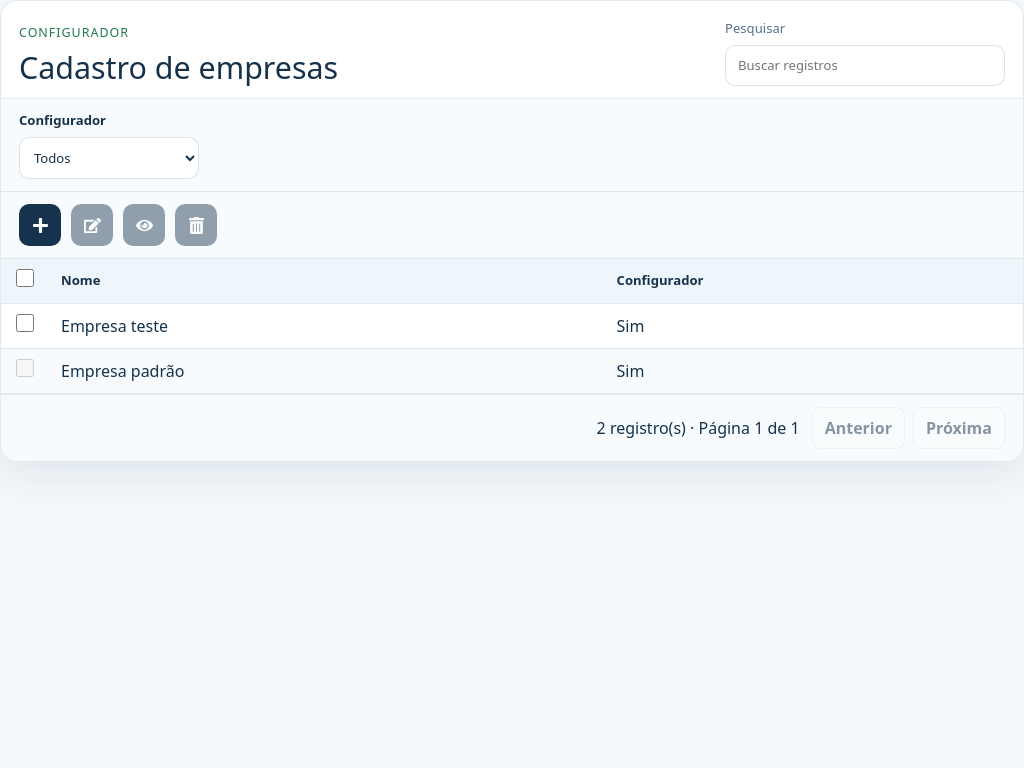
Scenario: CRUDs do Configurador › mantém empresas realmente somente leitura ao visualizar
The image size is (1024, 768).
Click the cell "Empresa teste".
click(327, 326)  # box [49,303,604,348]
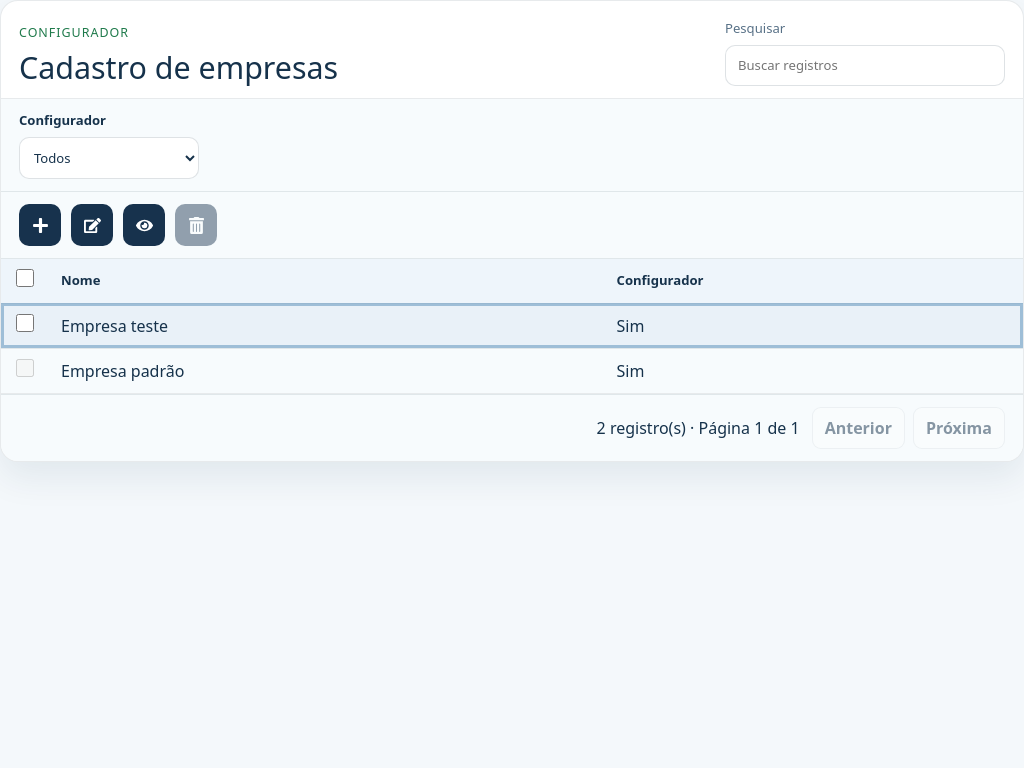
Click the button named "Visualizar".
click(144, 225)  # box [123,204,165,246]
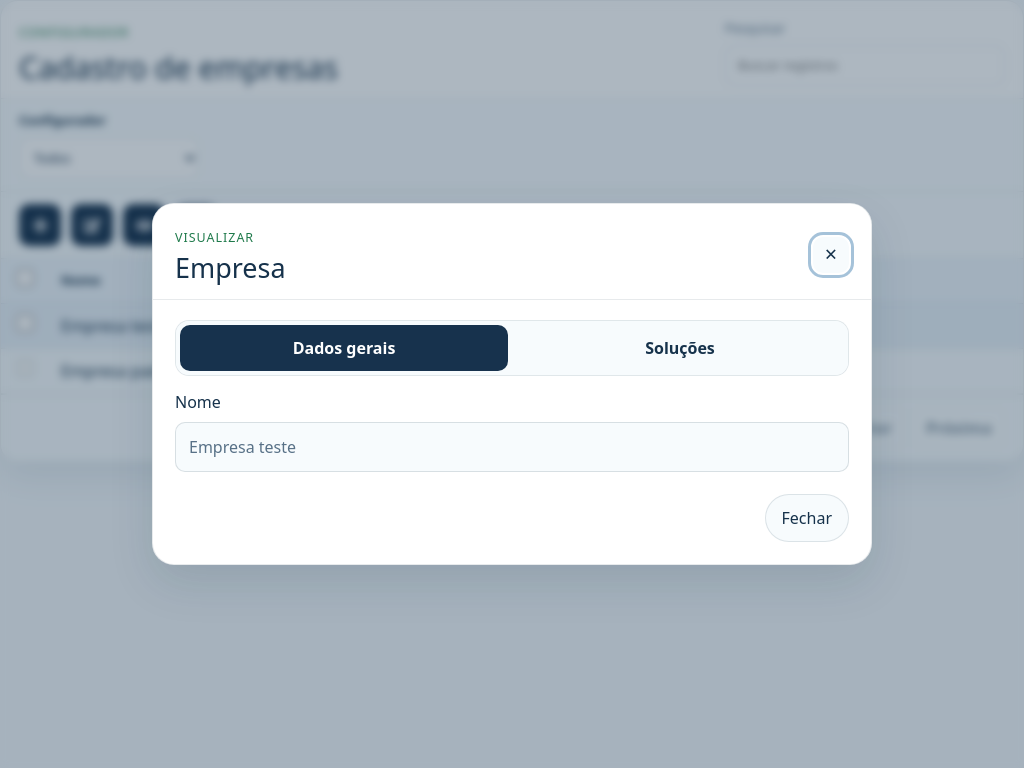
Expected: the field is disabled, [175,422,849,472]
